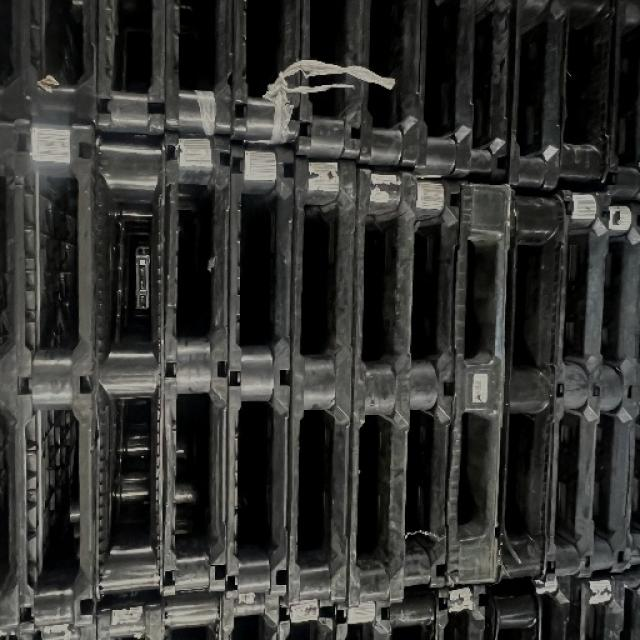igps: (15, 115, 104, 632), (376, 167, 472, 608), (216, 132, 302, 606), (85, 122, 169, 607), (282, 148, 364, 614), (429, 176, 520, 593), (338, 164, 422, 612), (155, 126, 234, 599), (487, 186, 577, 588), (536, 183, 616, 585), (572, 194, 639, 583), (0, 109, 44, 640), (409, 0, 479, 185), (502, 0, 568, 193), (292, 0, 368, 166), (500, 0, 565, 194), (450, 0, 517, 185), (354, 0, 426, 172), (551, 0, 616, 185), (226, 0, 306, 150), (89, 0, 173, 139), (158, 0, 240, 139), (21, 0, 104, 130), (603, 0, 640, 208), (0, 0, 38, 128), (93, 582, 168, 640), (158, 582, 228, 640), (214, 585, 284, 640), (489, 574, 546, 640), (431, 577, 490, 640), (385, 579, 443, 640), (330, 588, 396, 640), (577, 563, 619, 640), (274, 590, 338, 640), (540, 569, 583, 640), (604, 564, 638, 640)
